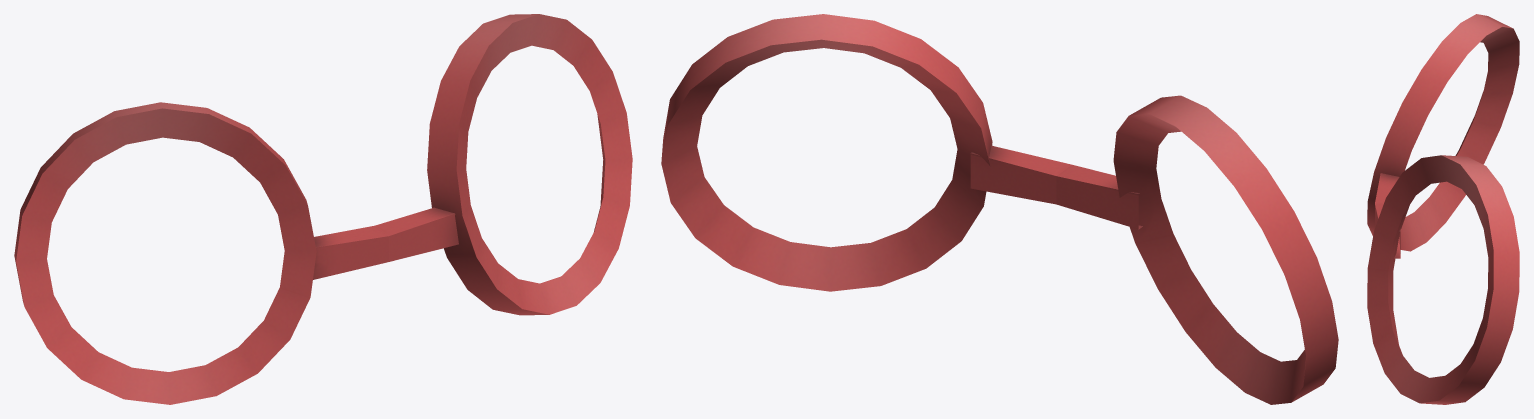
Rendered from GrassA_Red.fbx.
3 views of the same model, side by side, from view 1: azimuth 30°, elevation 25°; view 2: azimuth 150°, elevation 25°; view 3: azimuth 270°, elevation 25° (orthographic). The views are drawn at different scales.
Parts seen in each view (by area): view 1: GrassA_Red; view 2: GrassA_Red; view 3: GrassA_Red.
Part boxes in pixels (left/top/right/bottom): GrassA_Red: left=14, top=14, right=632, bottom=404; GrassA_Red: left=661, top=14, right=1338, bottom=404; GrassA_Red: left=1367, top=14, right=1519, bottom=404.
Size of the model in its own units: 73.55 by 31.29 by 19.18.
